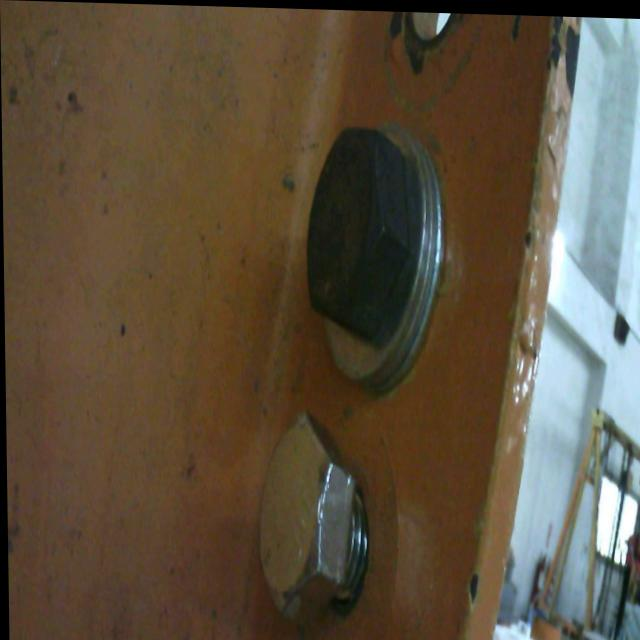Loose bolt: (254, 410, 370, 615)
Missing bolt: (401, 10, 480, 58)
Regular bolt: (307, 121, 446, 382)
